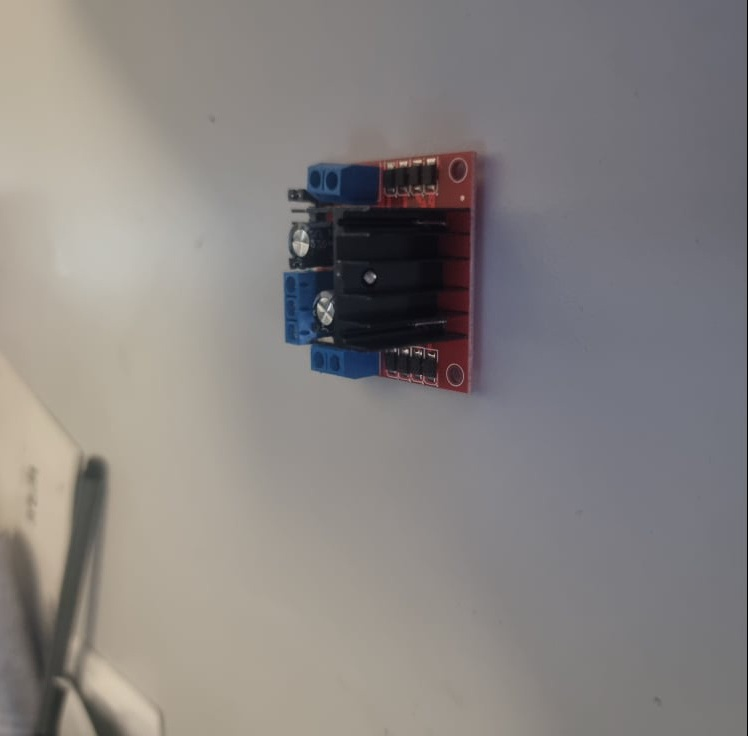MOTOR: (280, 153, 479, 394)
